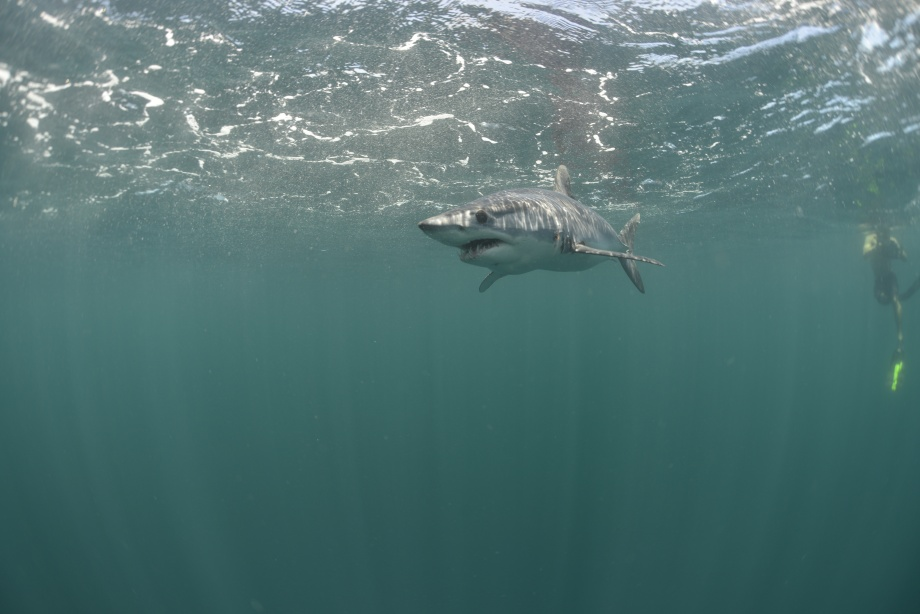Mako: (413, 148, 673, 307)
